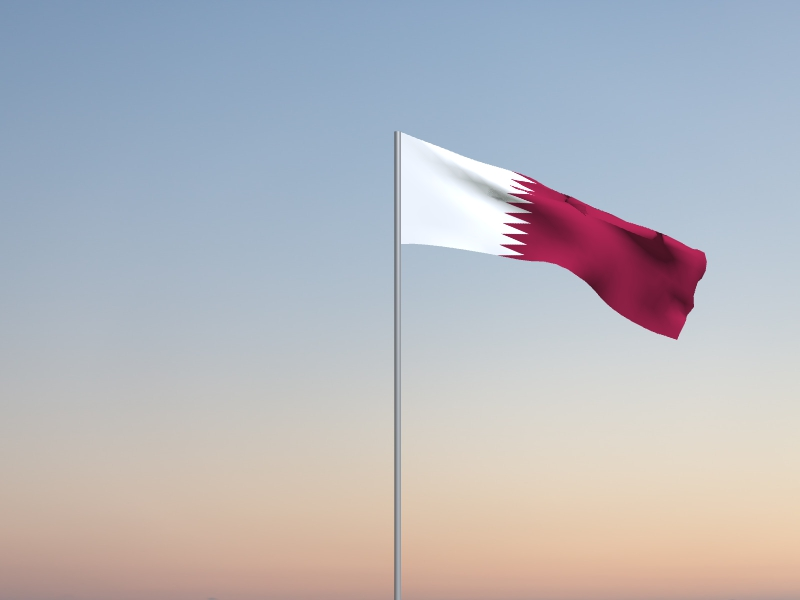qa: (402, 133, 708, 341)
